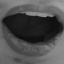MouthFatigue: (1, 2, 64, 58)
